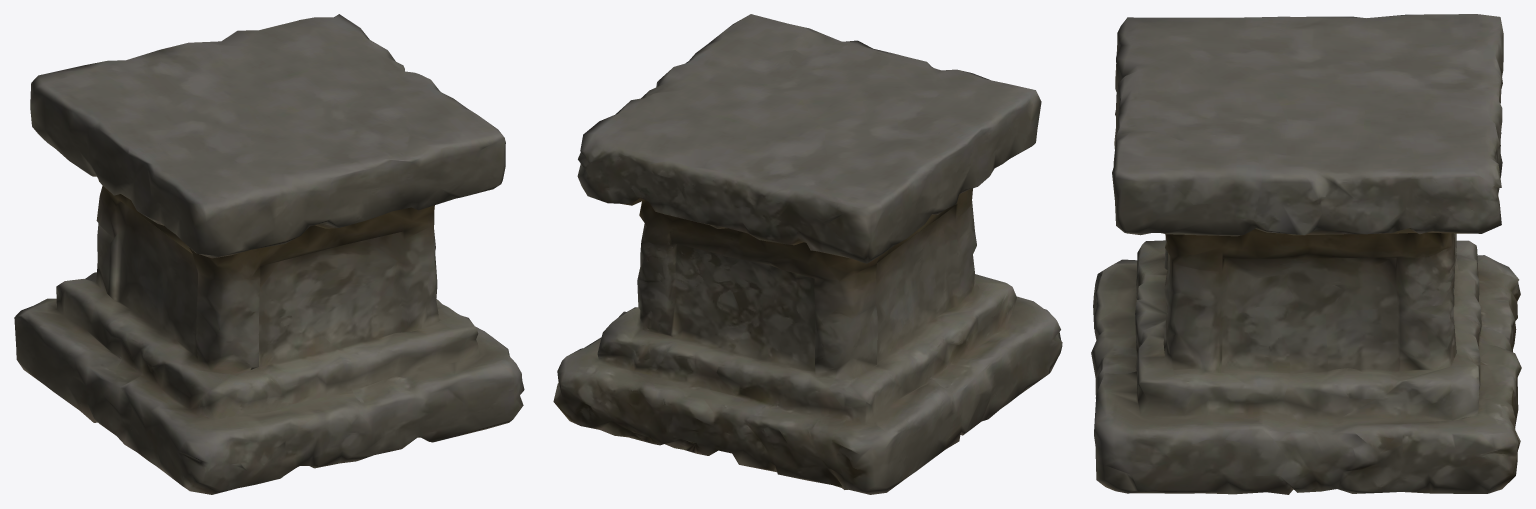
Rendered from pedestal.glb.
The picture shows the model from 3 angles, left to right: view 1: azimuth 30°, elevation 25°; view 2: azimuth 150°, elevation 25°; view 3: azimuth 270°, elevation 25°; orthographic projection. The views are drawn at different scales.
Parts seen in each view (by area): view 1: tripo_node_42868f60-984d-4c83-9cf7-1820c8f339f6; view 2: tripo_node_42868f60-984d-4c83-9cf7-1820c8f339f6; view 3: tripo_node_42868f60-984d-4c83-9cf7-1820c8f339f6.
Boxes of the visible parts, x1,y1,x2,y2 form: tripo_node_42868f60-984d-4c83-9cf7-1820c8f339f6: (14, 14, 524, 494); tripo_node_42868f60-984d-4c83-9cf7-1820c8f339f6: (553, 14, 1062, 494); tripo_node_42868f60-984d-4c83-9cf7-1820c8f339f6: (1091, 14, 1521, 494).
Bounding box in the file's own units: 0.9979 × 0.8116 × 1.
1 material, 1 textured.
